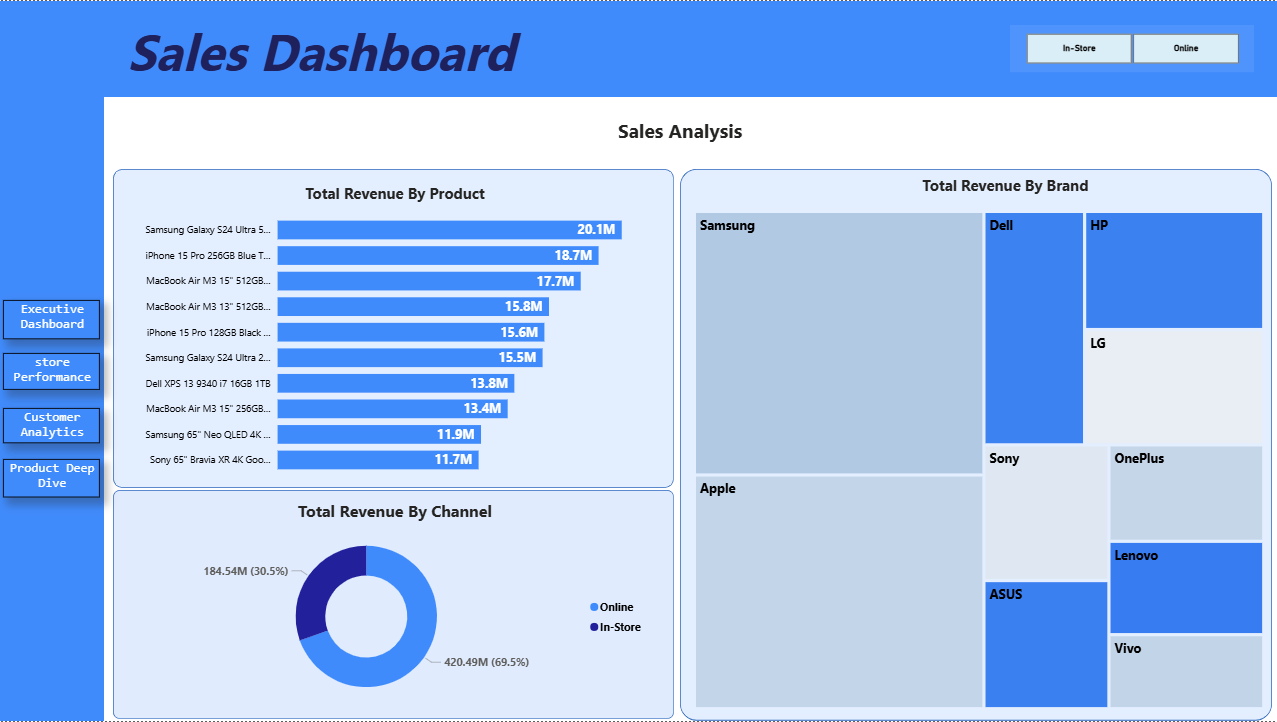

This screenshot's page, from the dashboard's own definition file:
{"tool":"powerbi","page":{"name":"Sales Analysis","canvas":[1600,900],"ordinal":1},"visuals":[{"type":"shape","box":[0,0,130,900],"z":0},{"type":"shape","box":[130,0,1470,120],"z":1000},{"type":"slicer","fields":{"Values":["dim_order.channel"]},"box":[1262.6,30.5,305,59],"z":2000},{"type":"shape","box":[141.2,611.2,701.2,286.2],"z":3000},{"type":"shape","box":[850,210.4,740,689.6],"z":4000,"group":"g1"},{"type":"shape","box":[141.2,210,701.2,398.8],"z":4000},{"type":"card","fields":{"Values":["fact_sales.Total Revenue By Channel"]},"box":[315,620,357.5,38.8],"z":5000},{"type":"treemap","fields":{"Group":["dim_product.brand"],"Values":["fact_sales.Total Revenue"]},"box":[864.9,260.2,717.7,627.6],"z":6000,"group":"g1"},{"type":"donutChart","fields":{"Category":["dim_order.channel"],"Y":["fact_sales.Total Revenue"]},"box":[173.8,651.2,641.2,236.2],"z":6000},{"type":"card","fields":{"Values":["fact_sales.Title Total Revenue By Brand"]},"box":[973.6,205,576.2,53.9],"z":7000,"group":"g1"},{"type":"clusteredBarChart","fields":{"Category":["dim_product.product_name"],"Y":["fact_sales.Total Revenue"]},"box":[165,248.8,677.5,355],"z":7000},{"type":"card","fields":{"Values":["dim_product.Title Total Revenue By Product Name"]},"box":[328.8,226.2,330,32.5],"z":8000},{"type":"card","fields":{"Values":["dim_date.Main Title"]},"box":[136.2,25,530,70],"z":9000},{"type":"actionButton","title":"Executive Dashboard","box":[3.8,373.8,121.2,48.8],"z":10000},{"type":"actionButton","title":"store Performance","box":[3.8,440,121.2,46.2],"z":11000},{"type":"actionButton","title":"Customer Analytics","box":[3.8,508.8,121.2,43.8],"z":12000},{"type":"actionButton","title":"Product Deep Dive","box":[3.8,572.5,121.2,47.5],"z":13000},{"type":"card","fields":{"Values":["dim_customer.Title Sales Analysis"]},"box":[710,133.8,280,60],"z":14000},{"type":"group","id":"g1","title":"Group 1","box":[850,205,740,693.8],"z":15000}]}

Visuals, with their boxes in screenshot pixels (x1, y1, x2, y2), scaled from the page's 1600x900 canvas onto the 1277x722 screenshot:
shape: region(0, 0, 104, 721)
shape: region(104, 0, 1276, 96)
slicer - dim_order.channel: region(1008, 24, 1251, 72)
shape: region(113, 490, 672, 720)
shape: region(678, 169, 1269, 721)
shape: region(113, 168, 672, 488)
card - fact_sales.Total Revenue By Channel: region(251, 497, 537, 529)
treemap - dim_product.brand x fact_sales.Total Revenue: region(690, 209, 1263, 712)
donutChart - dim_order.channel x fact_sales.Total Revenue: region(139, 522, 650, 712)
card - fact_sales.Title Total Revenue By Brand: region(777, 164, 1237, 208)
clusteredBarChart - dim_product.product_name x fact_sales.Total Revenue: region(132, 200, 672, 484)
card - dim_product.Title Total Revenue By Product Name: region(262, 181, 526, 208)
card - dim_date.Main Title: region(109, 20, 532, 76)
"Executive Dashboard" actionButton: region(3, 300, 100, 339)
"store Performance" actionButton: region(3, 353, 100, 390)
"Customer Analytics" actionButton: region(3, 408, 100, 443)
"Product Deep Dive" actionButton: region(3, 459, 100, 497)
card - dim_customer.Title Sales Analysis: region(567, 107, 790, 155)
"Group 1" group: region(678, 164, 1269, 721)
